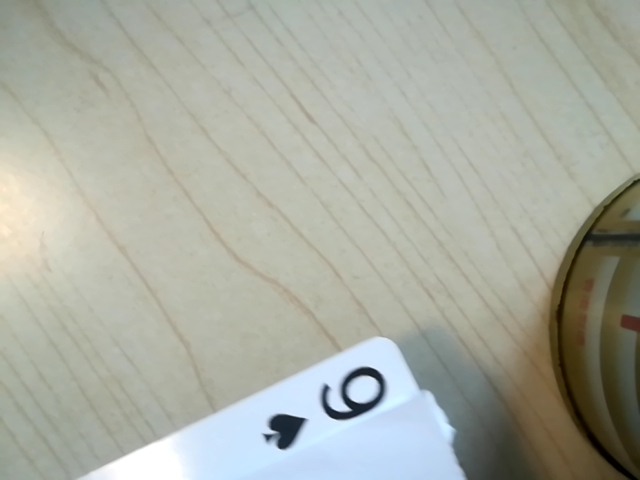ht 9: (247, 357, 412, 451)
